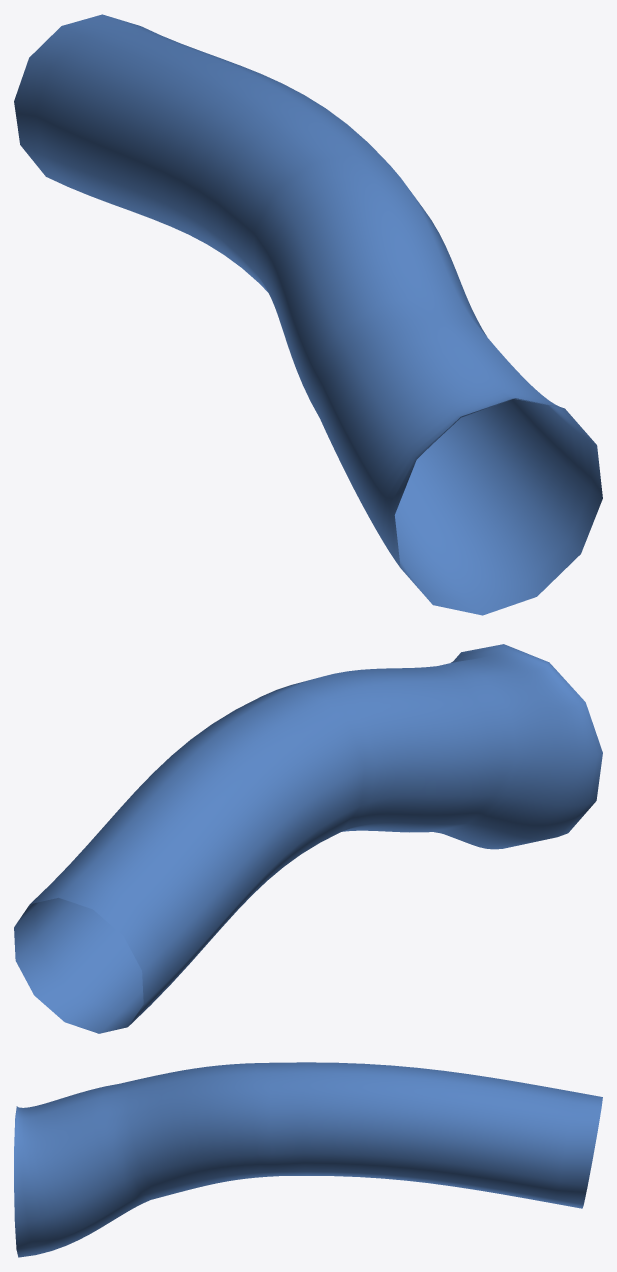
The picture shows the model from 3 angles, top to bottom: view 1: azimuth 30°, elevation 25°; view 2: azimuth 150°, elevation 25°; view 3: azimuth 270°, elevation 25°; orthographic projection. The views are drawn at different scales.
Parts seen in each view (by area): view 1: 下腔静脉胸部; view 2: 下腔静脉胸部; view 3: 下腔静脉胸部.
Part boxes in pixels (x1=…): 下腔静脉胸部: x1=14, y1=14, x2=602, y2=615; 下腔静脉胸部: x1=14, y1=644, x2=602, y2=1033; 下腔静脉胸部: x1=14, y1=1062, x2=602, y2=1257.
Size of the model in its own units: 0.0382 by 0.0499 by 0.1367.
